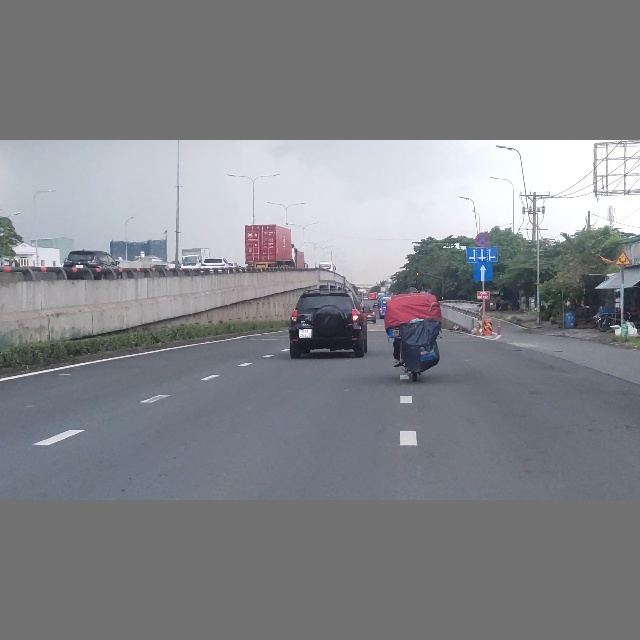I.407a: (473, 263, 493, 281)
P.130: (475, 232, 491, 246)
W.246a: (615, 251, 631, 265)
